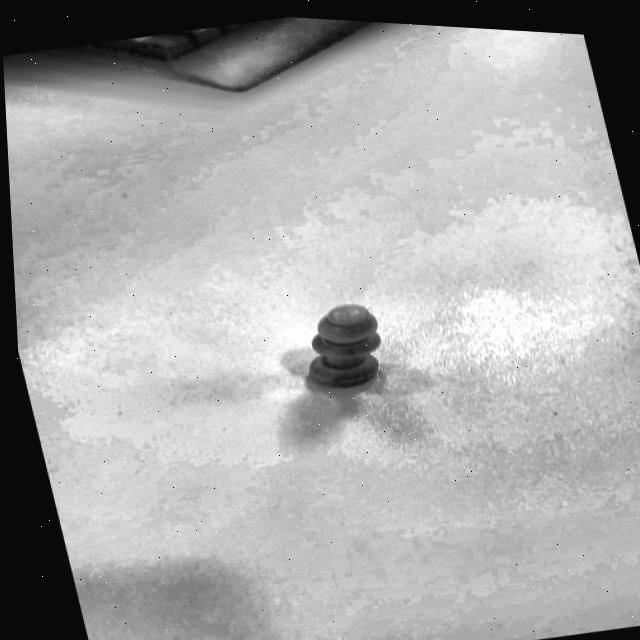white-bishop: (251, 268, 454, 424)
